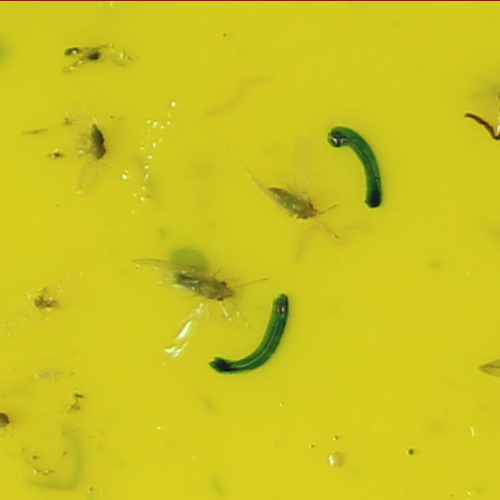Glycaspis: (174, 270, 233, 302), (271, 188, 318, 224)
psylla: (89, 122, 106, 160)
